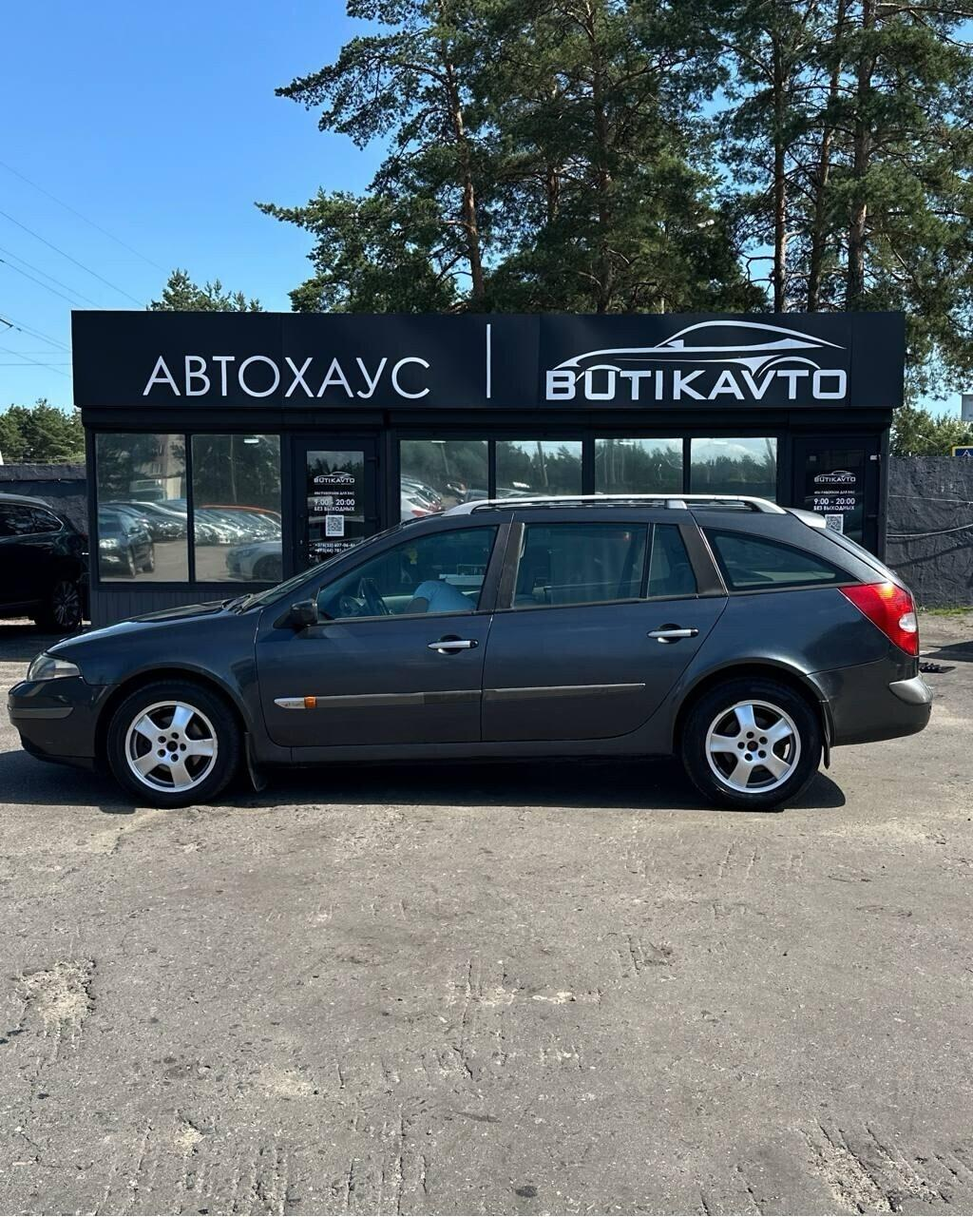Laguna_2001-2005: (10, 454, 931, 811)
